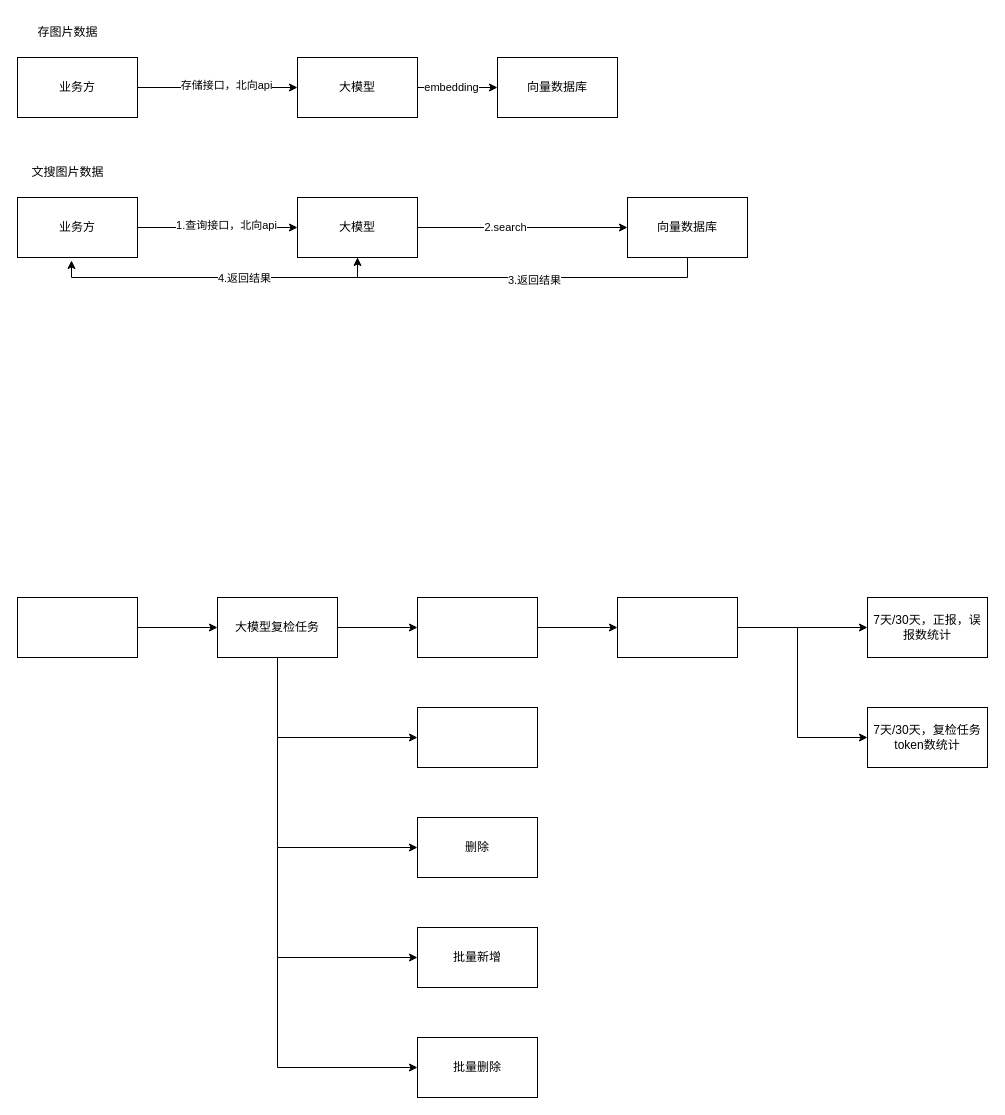
Image size: 1005x1115. Some labels were removed from this diagram. Each missing label, with the centre of its shape:
"AI中心" goes at (77,627).
"分页查询" goes at (477,627).
"新增" goes at (477,737).
"详情" goes at (677,627).
